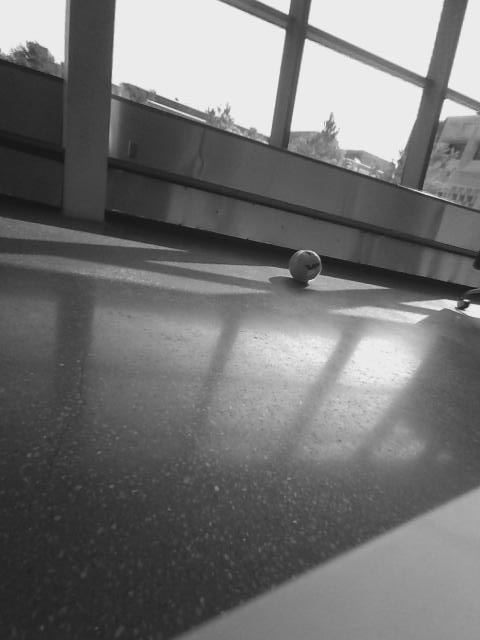ball: (288, 248, 323, 284)
